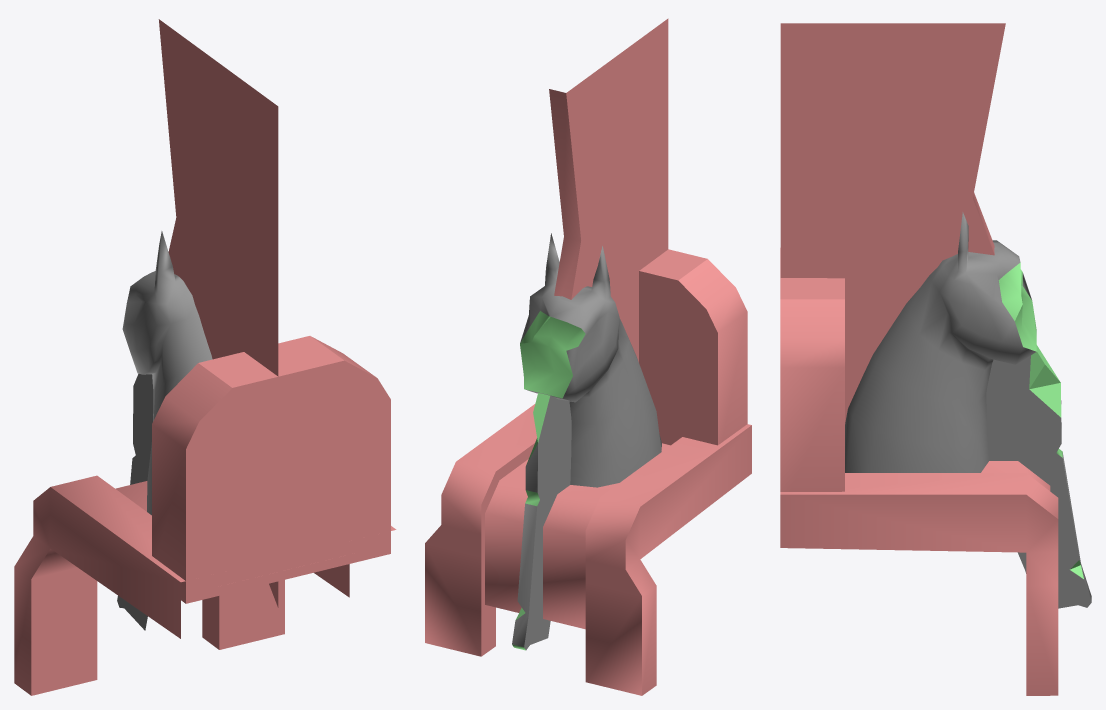
File: SSQ_statue04_b01.gltf
3 views of the same model, side by side, from view 1: azimuth 30°, elevation 25°; view 2: azimuth 150°, elevation 25°; view 3: azimuth 270°, elevation 25° (orthographic). The views are drawn at different scales.
Visible parts, largest first — view 1: SSQ_statue04_b01; view 2: SSQ_statue04_b01; view 3: SSQ_statue04_b01.
Part boxes in pixels (box(x1,y1,x2,y2)): SSQ_statue04_b01: box(14, 19, 396, 695); SSQ_statue04_b01: box(425, 18, 751, 695); SSQ_statue04_b01: box(780, 23, 1091, 695).
Size of the model in its own units: 0.7643 by 1.89 by 0.8615.
